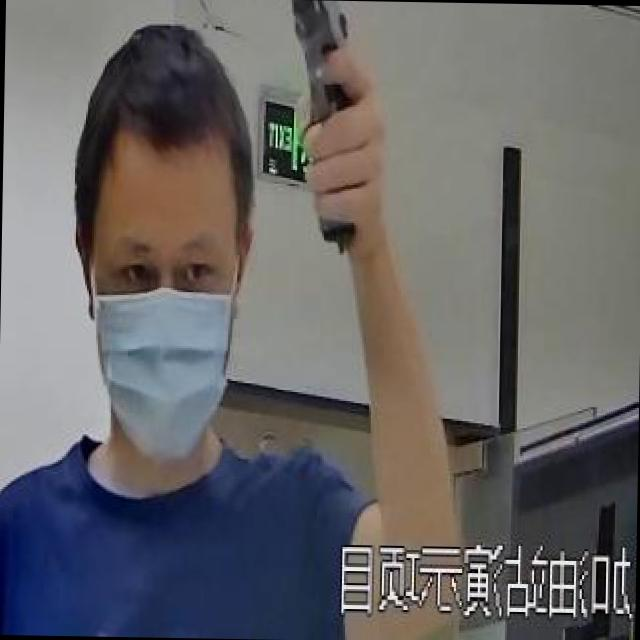Guns: (258, 0, 401, 285)
